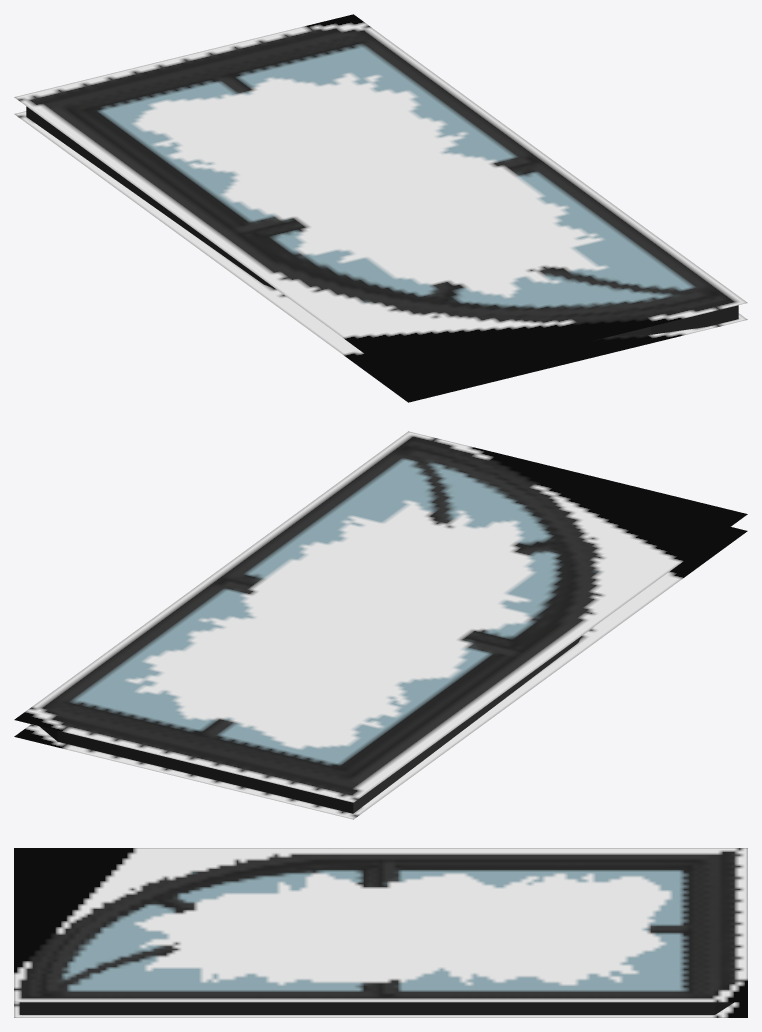
Rendered from pz_native_fixtures_windows_metal_57_frame.obj.
The picture shows the model from 3 angles, top to bottom: view 1: azimuth 30°, elevation 25°; view 2: azimuth 150°, elevation 25°; view 3: azimuth 270°, elevation 25°; orthographic projection. The views are drawn at different scales.
Visible parts, largest first — view 1: pz_native_fixtures_windows_metal_57_frame; view 2: pz_native_fixtures_windows_metal_57_frame; view 3: pz_native_fixtures_windows_metal_57_frame.
Boxes of the visible parts, x1,y1,x2,y2 form: pz_native_fixtures_windows_metal_57_frame: (14, 14, 747, 402); pz_native_fixtures_windows_metal_57_frame: (14, 431, 747, 819); pz_native_fixtures_windows_metal_57_frame: (14, 848, 747, 1017).
Bounding box in the file's own units: 0.8438 × 0.04 × 1.7.
1 material, 1 textured.
